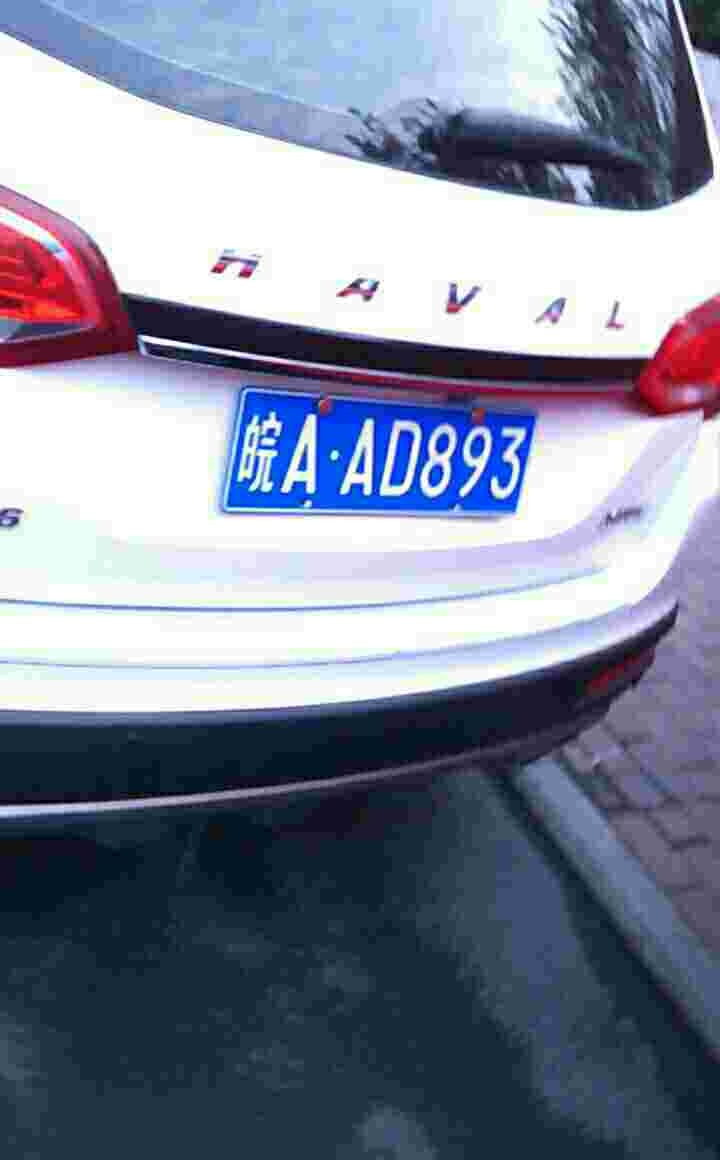license_plate: (236, 396, 530, 522)
